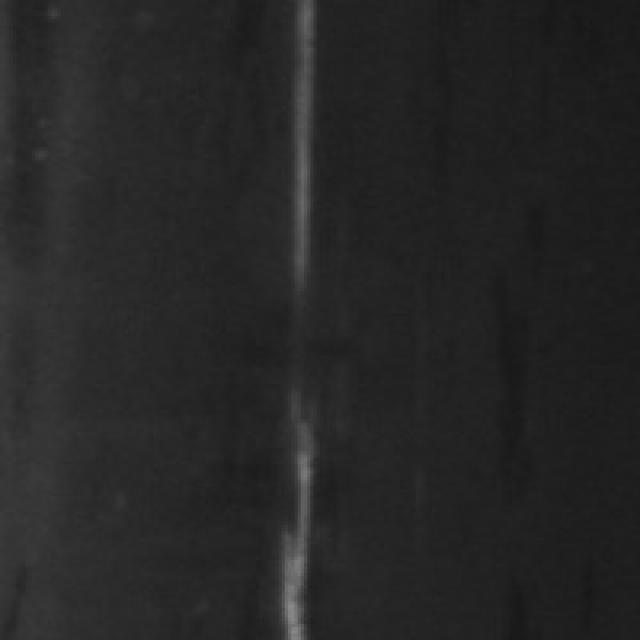scratches: (269, 0, 317, 307), (266, 400, 326, 637)
